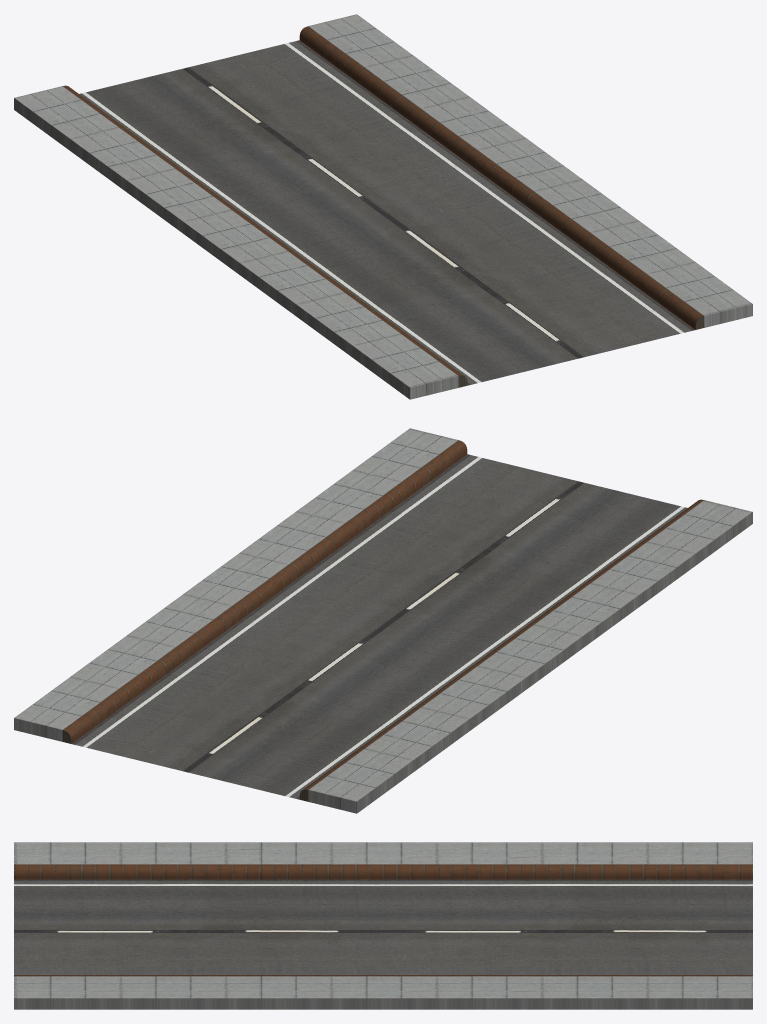
3 views of the same model, one above another, from view 1: azimuth 30°, elevation 25°; view 2: azimuth 150°, elevation 25°; view 3: azimuth 270°, elevation 25° (orthographic). The views are drawn at different scales.
Visible parts, largest first — view 1: Plane01; view 2: Plane01; view 3: Plane01.
Boxes of the visible parts, bbox=[...] form: Plane01: bbox=[14, 14, 752, 399]; Plane01: bbox=[14, 428, 752, 813]; Plane01: bbox=[14, 842, 752, 1009].
Size of the model in its own units: 60 by 2 by 120.
